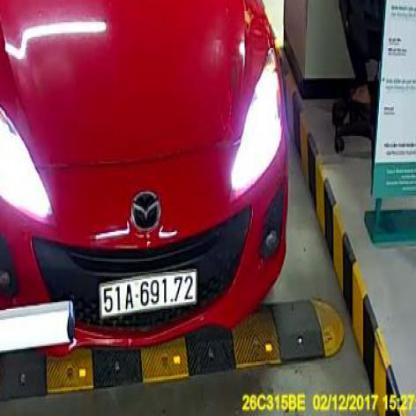license plate: (98, 284, 196, 313)
